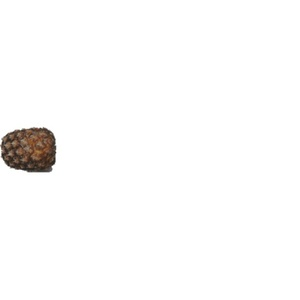abacaxi: (3, 119, 58, 177)
